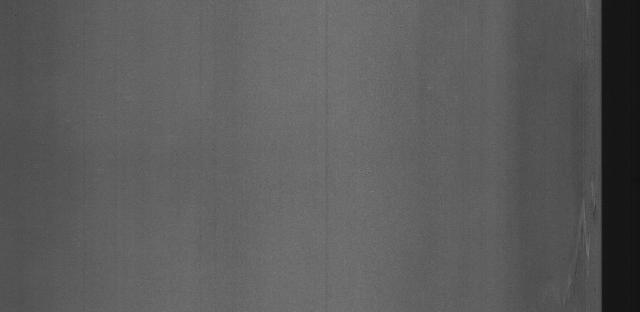silk_spot: (556, 183, 600, 277)
